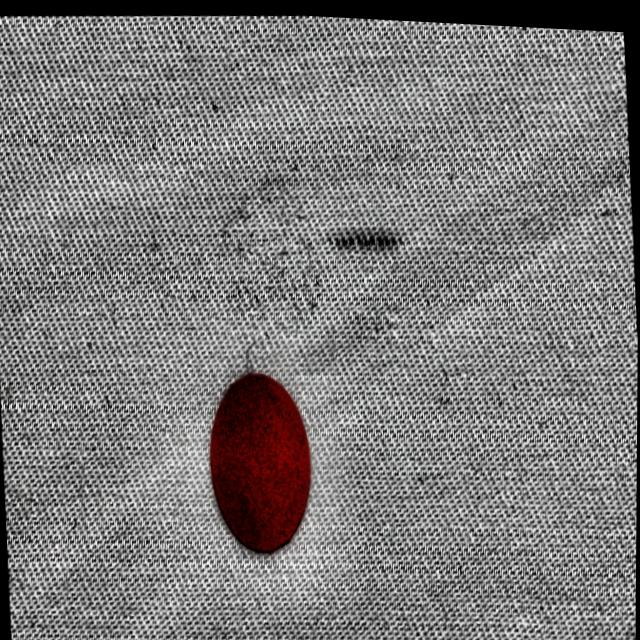Hole: (336, 230, 400, 247)
